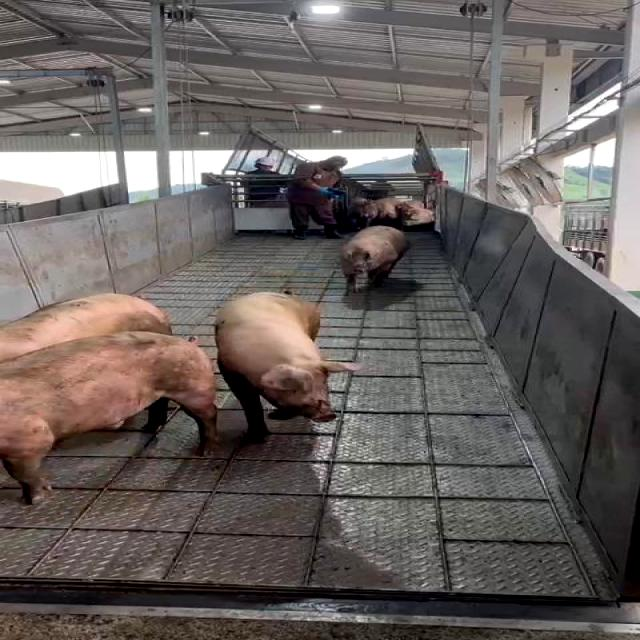pig: (0, 331, 218, 504), (215, 292, 358, 441), (0, 294, 171, 359), (339, 226, 408, 292)
